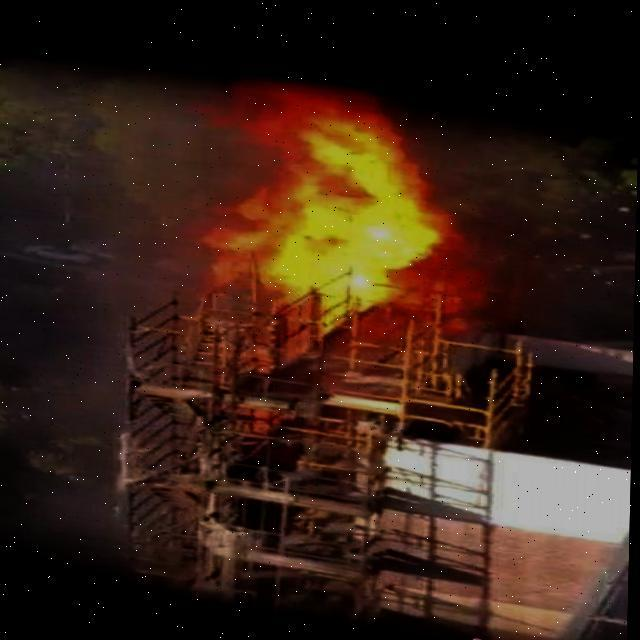Fire: (220, 80, 452, 339)
